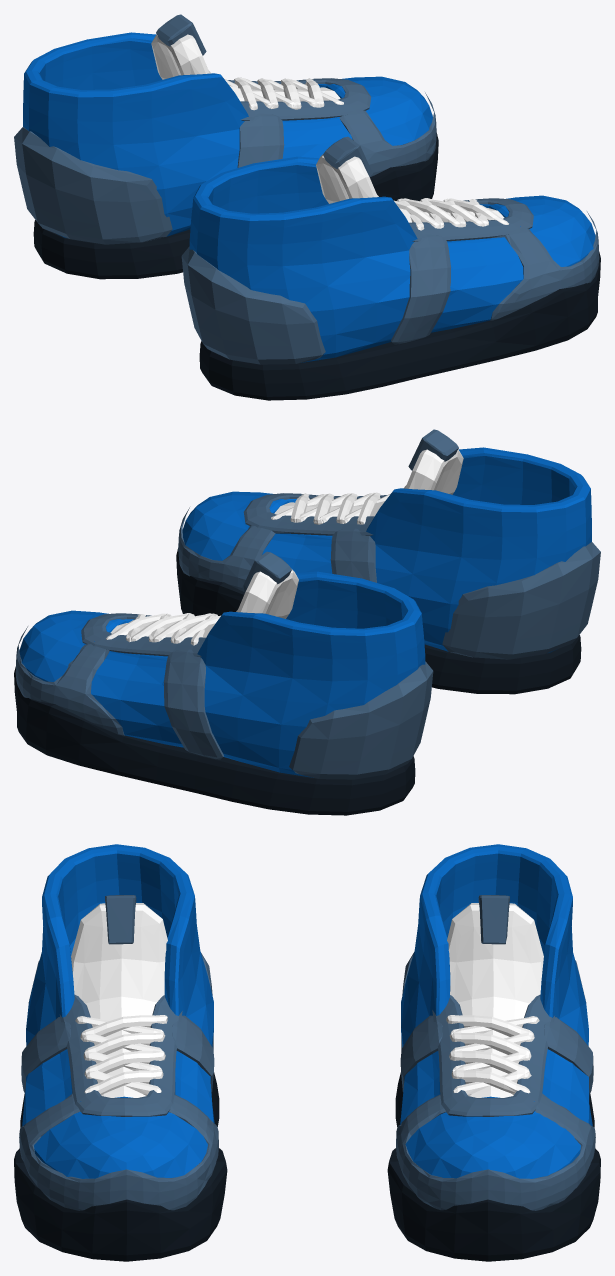
The model's file is 1ff5c477-e9c2-4e72-bfe7-5aaf0d2f85bb.glb.
3 renders of one model, top to bottom at view 1: azimuth 30°, elevation 25°; view 2: azimuth 150°, elevation 25°; view 3: azimuth 270°, elevation 25°, orthographic. The views are drawn at different scales.
Visible parts, largest first — view 1: Shoes; view 2: Shoes; view 3: Shoes.
Boxes of the visible parts, x1,y1,x2,y2 form: Shoes: (14, 14, 600, 400); Shoes: (14, 429, 600, 815); Shoes: (14, 844, 600, 1261).
Size of the model in its own units: 27.12 by 13.34 by 30.07.
1 material, 1 textured.
